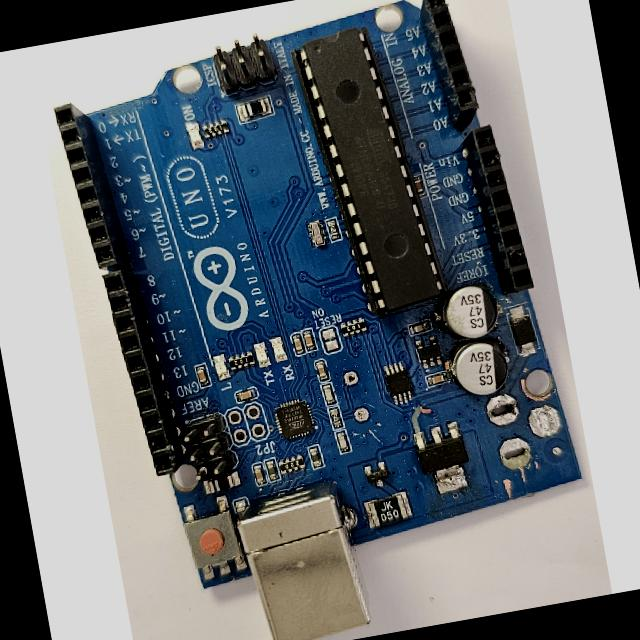missing_crystal_os: (330, 355, 390, 447)
missing_eps: (474, 386, 542, 490)
